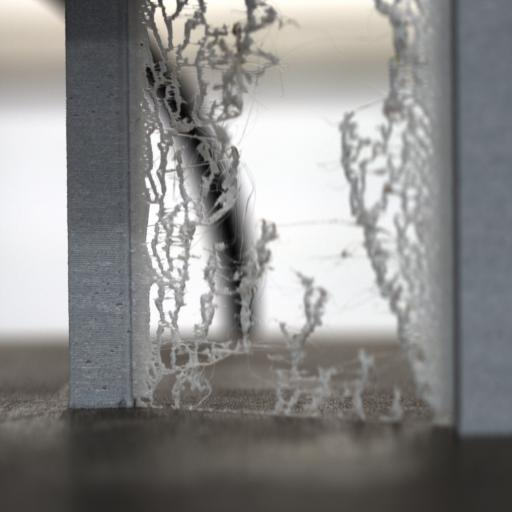stringing: (143, 2, 289, 402), (335, 3, 438, 414), (144, 202, 230, 402), (267, 264, 337, 414)
